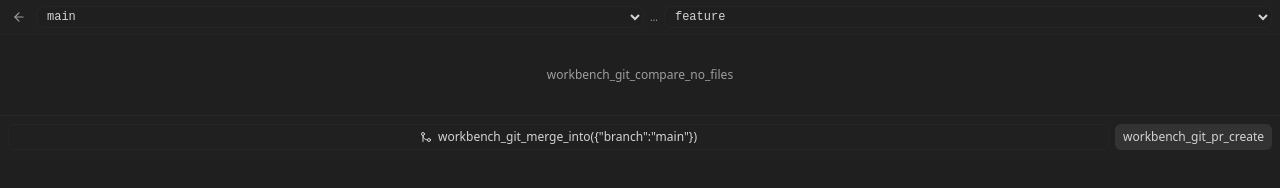
it: CompareView › merge com erro mostra a mensagem de erro retornada pela API
Click the button "workbench_git_merge_into({\"branch\":\"main\"})" at [558, 137], box [8,124,1109,150]
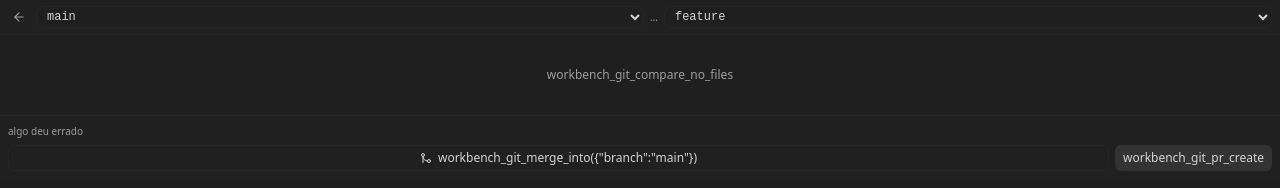
Result: the text "algo deu errado" is shown at [8,124,83,138]
